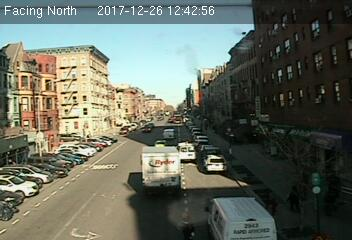car: (204, 154, 227, 172)
truck: (206, 197, 278, 240), (140, 146, 182, 194), (177, 142, 197, 163), (163, 128, 175, 139)
